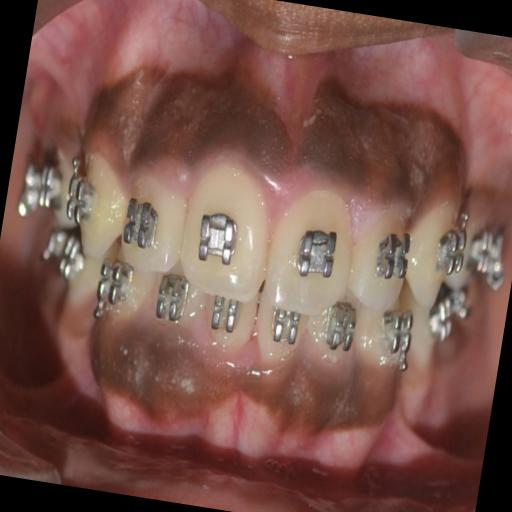correct_brace: (188, 205, 248, 279), (290, 216, 344, 287), (118, 196, 164, 255), (368, 225, 414, 284), (430, 216, 468, 276), (62, 170, 99, 226)
incorrect_brace: (108, 160, 194, 280), (344, 194, 418, 320)
